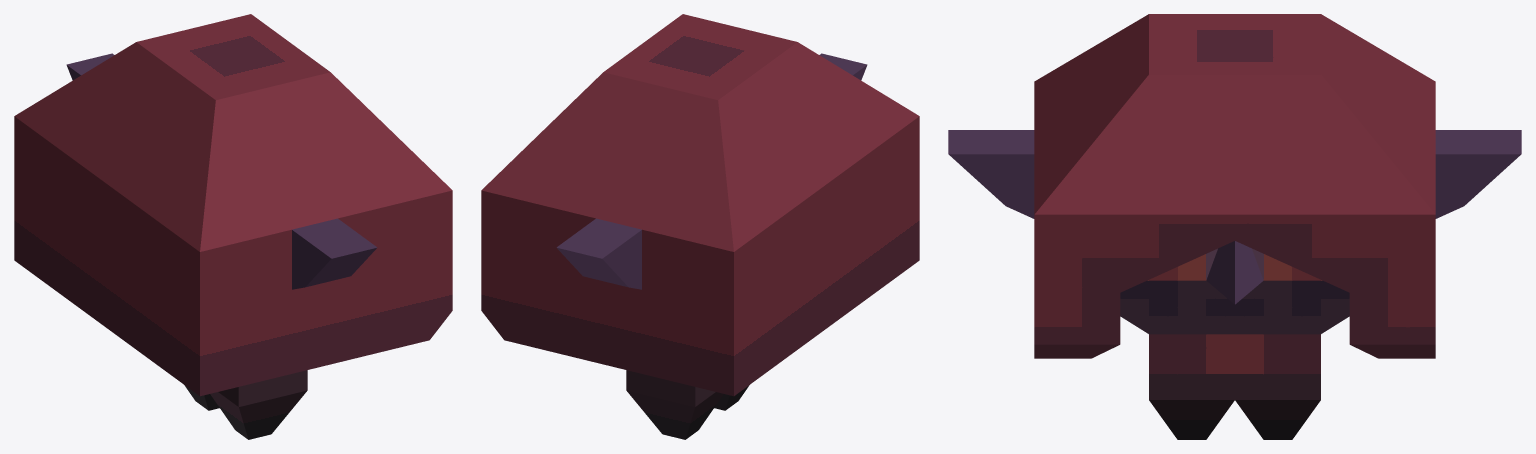
Rendered from curse_goblin.glb.
The picture shows the model from 3 angles, left to right: view 1: azimuth 30°, elevation 25°; view 2: azimuth 150°, elevation 25°; view 3: azimuth 270°, elevation 25°; orthographic projection. The views are drawn at different scales.
Parts seen in each view (by area): view 1: Cube.001, Cube; view 2: Cube.001, Cube; view 3: Cube.001, Cube.
Boxes of the visible parts, <box> form: Cube.001: <box>14,14,452,396</box>; Cube: <box>66,53,377,439</box>; Cube.001: <box>481,14,919,396</box>; Cube: <box>556,53,867,439</box>; Cube.001: <box>1034,14,1435,358</box>; Cube: <box>948,130,1521,439</box>.
Size of the model in its own units: 1.5 by 1.87 by 2.5.
Materials: 2 (2 with a texture image).
